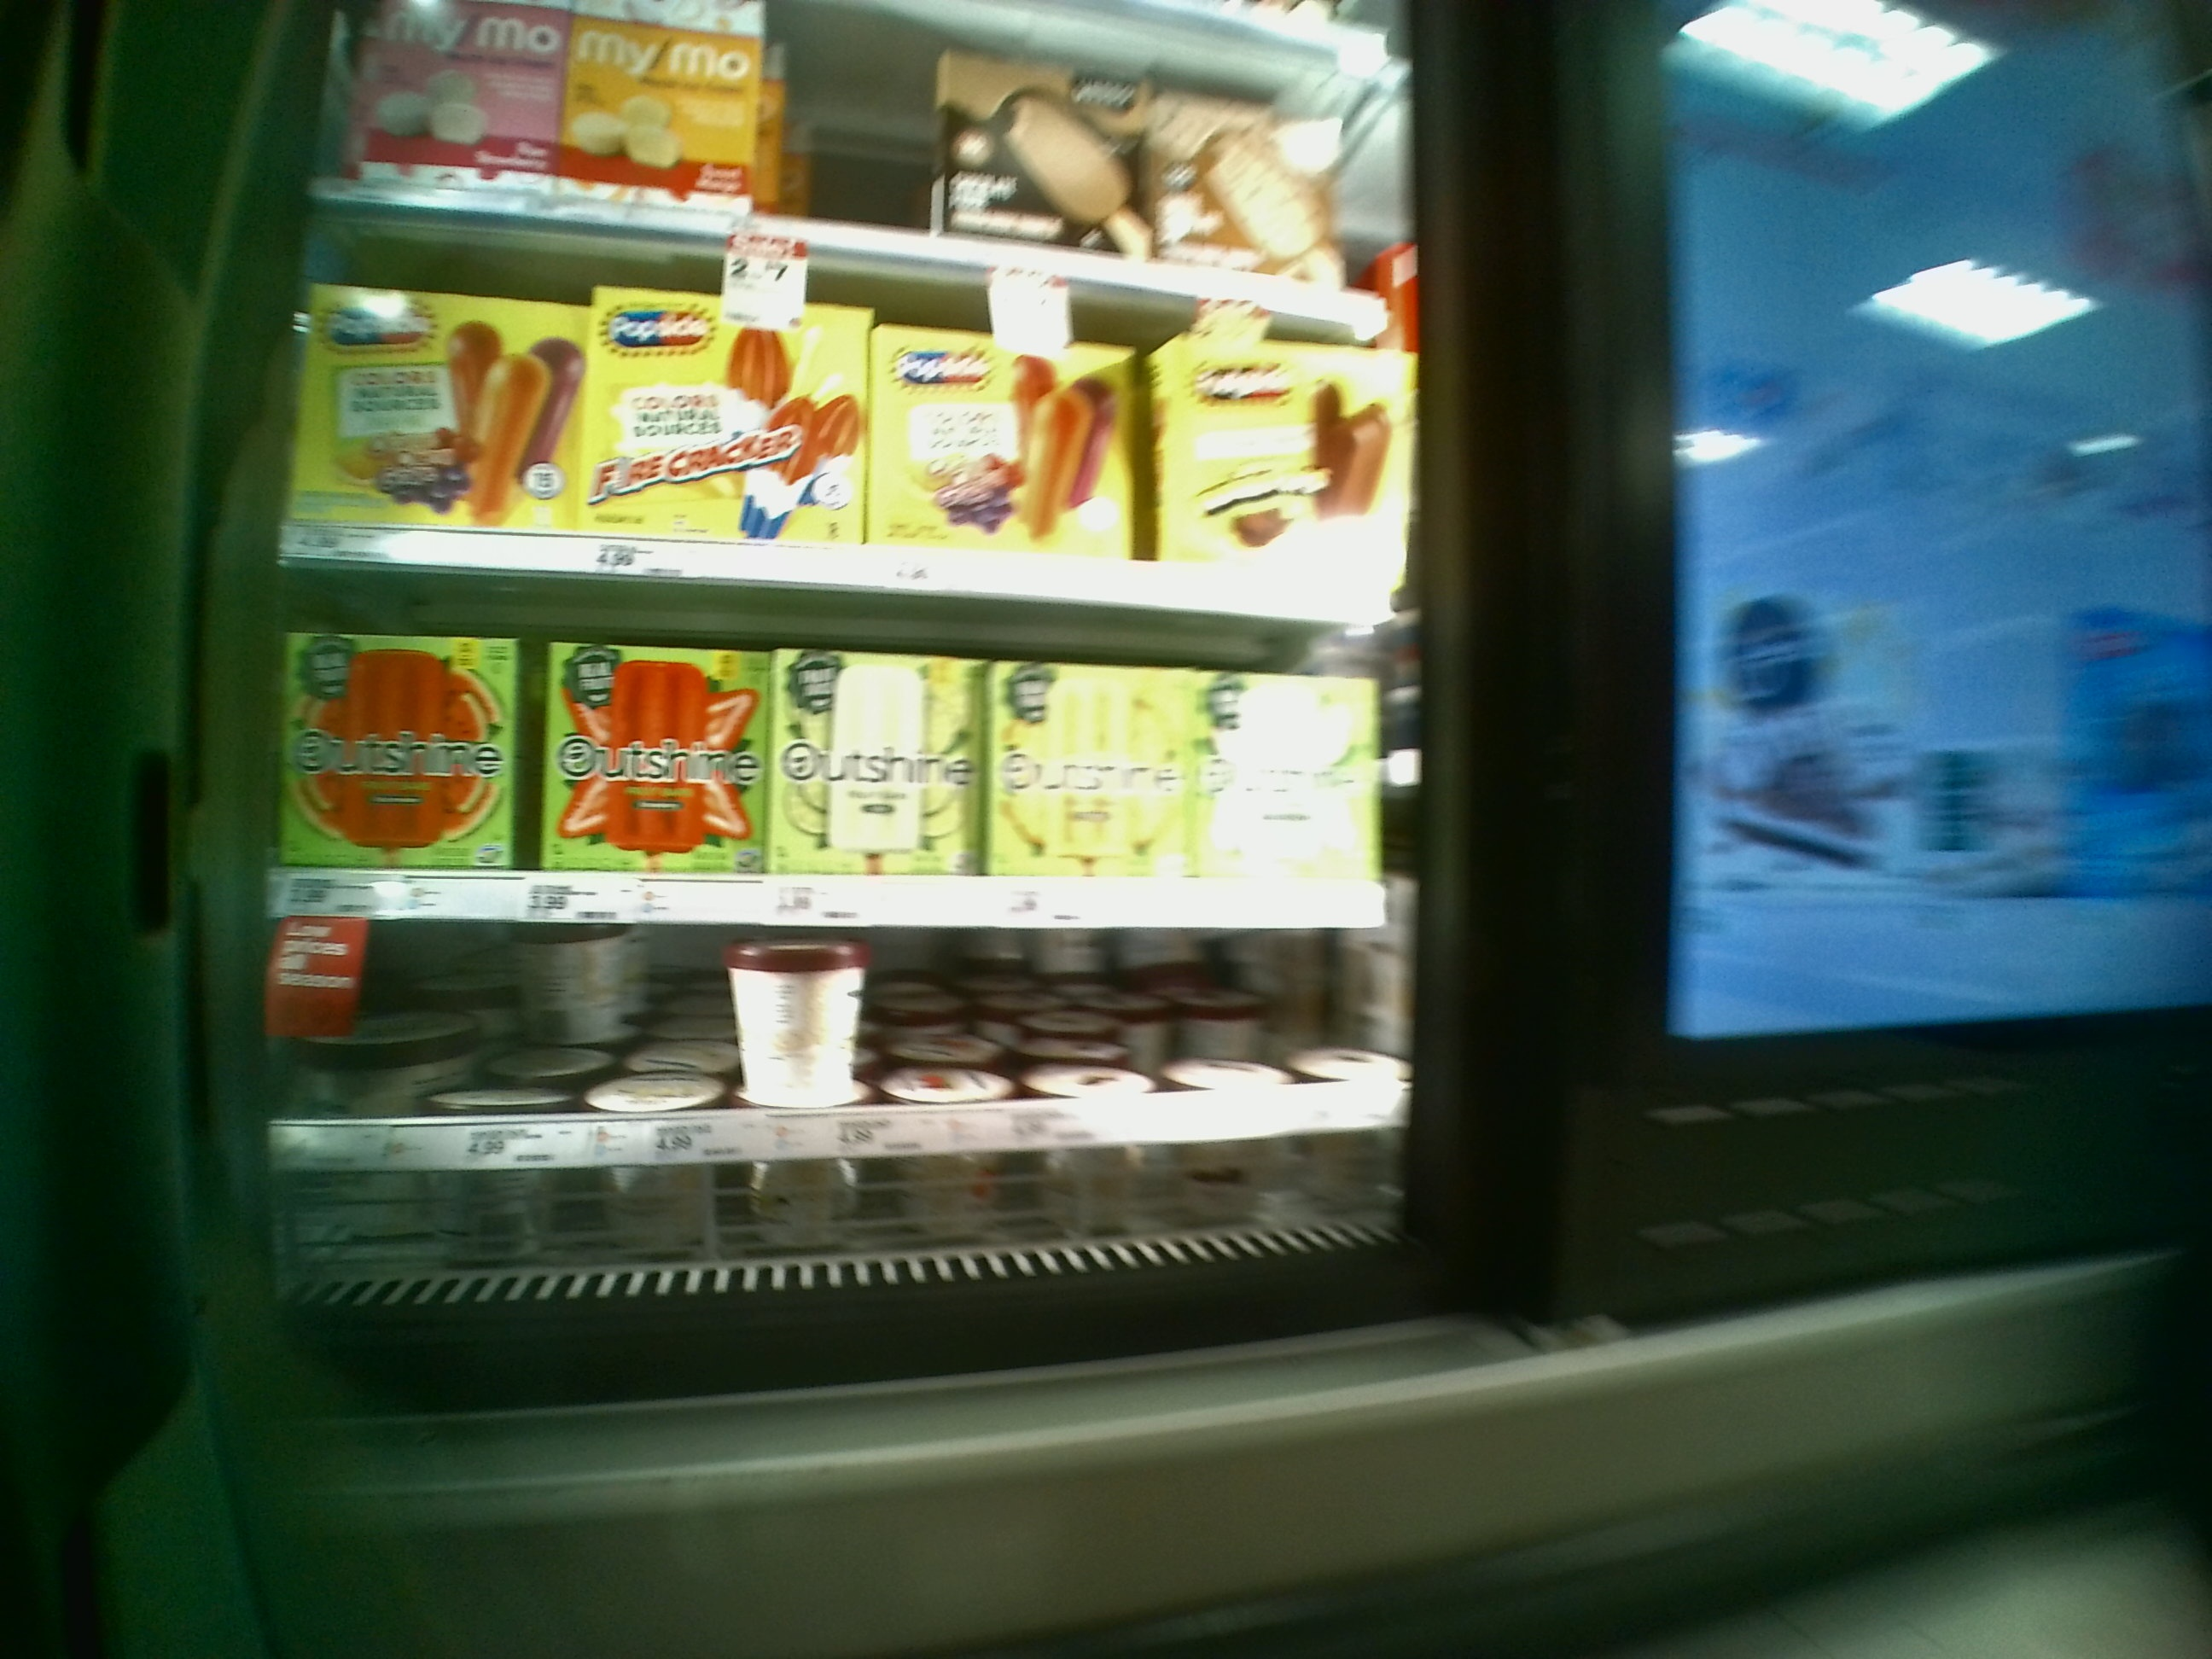ice-cream-shelf: (268, 556, 1399, 932), (261, 917, 1407, 1173)
